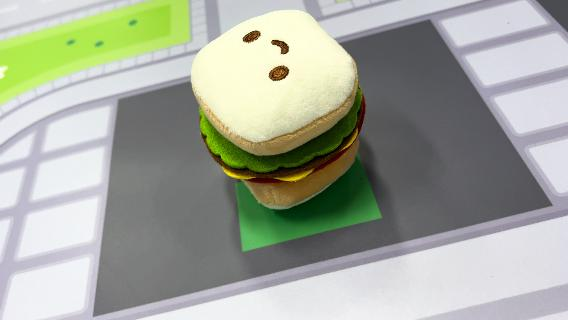sandwich: (189, 9, 370, 211)
